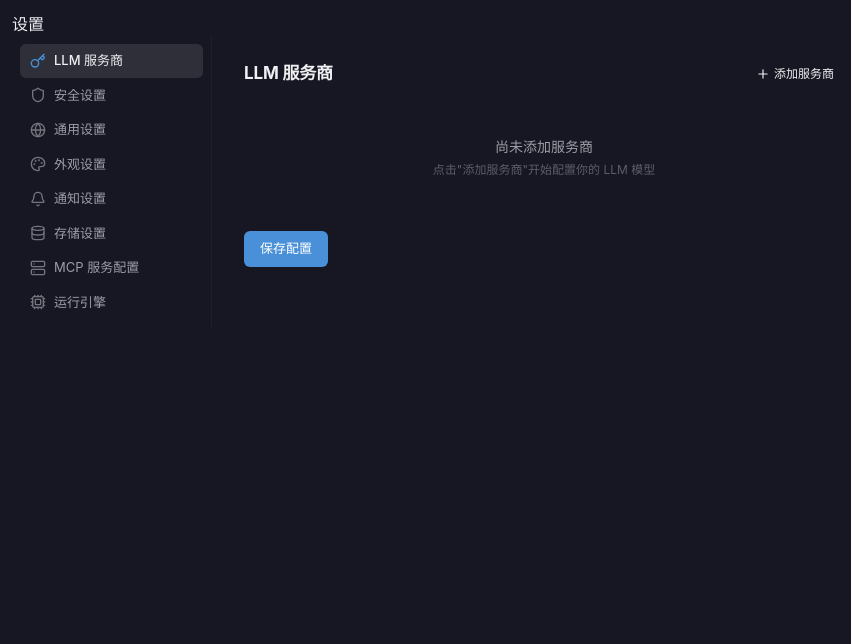
Test: SettingsView — E2E 关键路径 › saves security config when in security section
This screenshot has width=851, height=644.
#  切换到安全设置
What coordinates should you click on to do the following:
click the button "安全设置"
I would click on:
 (112, 95)
Its box is [20,78,203,112].
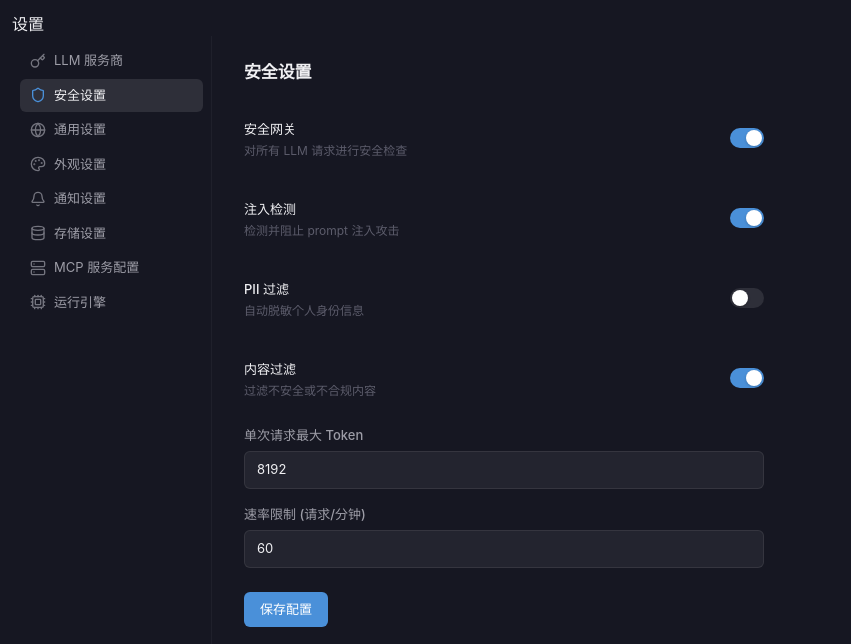
What coordinates should you click on to do the following:
click the button "保存配置"
I would click on:
 (286, 609)
Its box is [244,592,328,627].
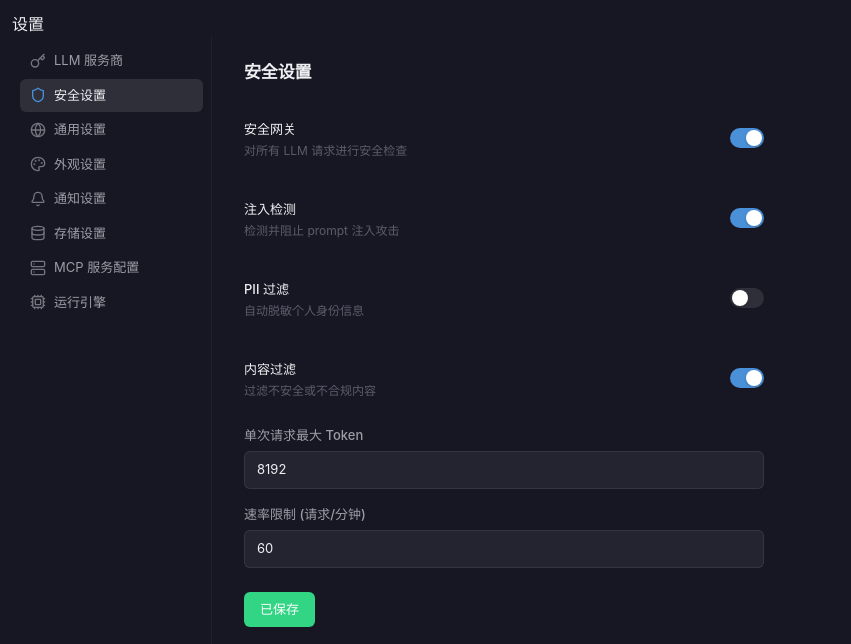
Now the text "已保存" is shown, box [244,592,315,627]
